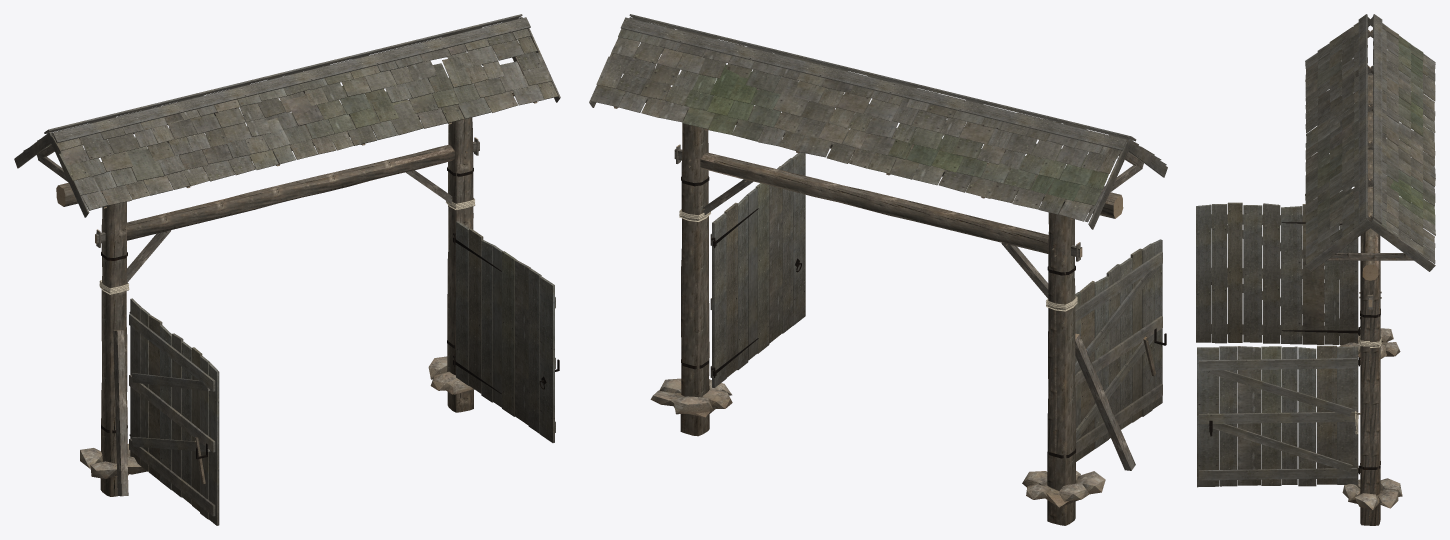
File: gate-v5-lite.glb
3 renders of one model, left to right at view 1: azimuth 30°, elevation 25°; view 2: azimuth 150°, elevation 25°; view 3: azimuth 270°, elevation 25°, orthographic. The views are drawn at different scales.
Visible parts, largest first — view 1: H_gate; view 2: H_gate; view 3: H_gate.
Boxes of the visible parts, left/top/right/bottom form: H_gate: left=14, top=14, right=560, bottom=525; H_gate: left=589, top=14, right=1167, bottom=525; H_gate: left=1196, top=14, right=1435, bottom=525.
Size of the model in its own units: 9.35 by 7.06 by 4.63.
7 materials, 6 textured.
